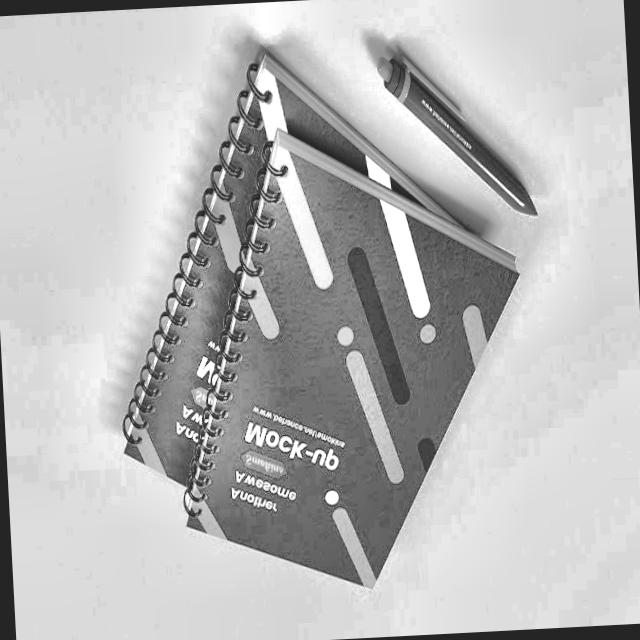Notebook: (99, 32, 546, 620)
